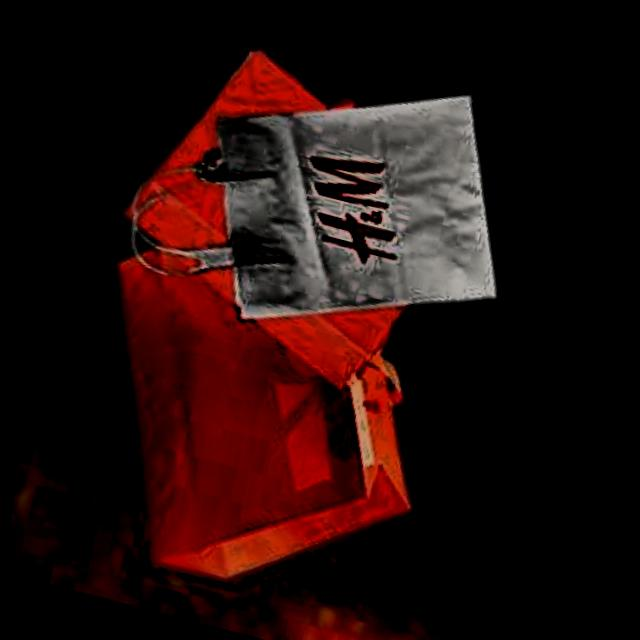Paper-bag: (19, 138, 490, 636), (88, 7, 554, 400), (96, 13, 486, 423)
